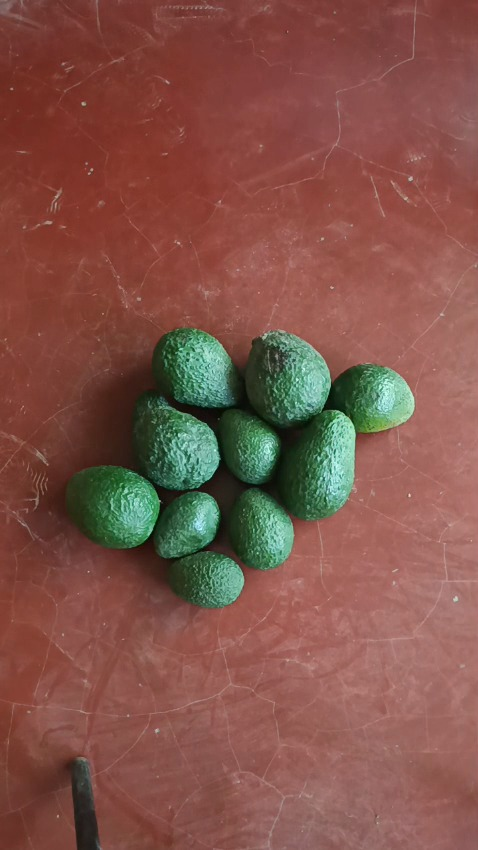Primera: (131, 392, 220, 490), (243, 329, 331, 427), (276, 410, 355, 519), (64, 464, 161, 550), (150, 327, 240, 409)
Segunda: (328, 362, 415, 433), (216, 407, 280, 484)
Tercera: (227, 488, 293, 569), (152, 490, 221, 559), (166, 551, 243, 607)
